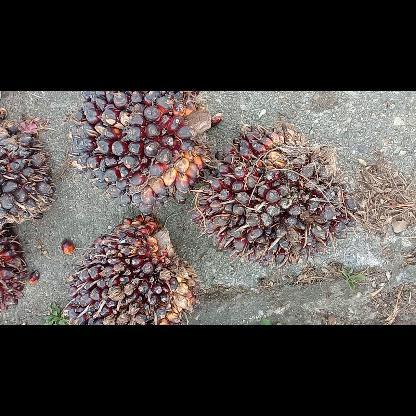TBS mentah: (190, 120, 356, 266), (70, 91, 212, 215), (68, 216, 196, 324), (0, 121, 54, 225)
